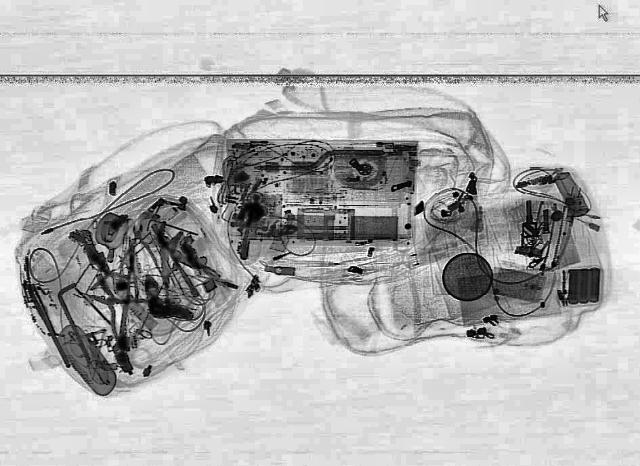Pliers: (110, 224, 168, 294)
